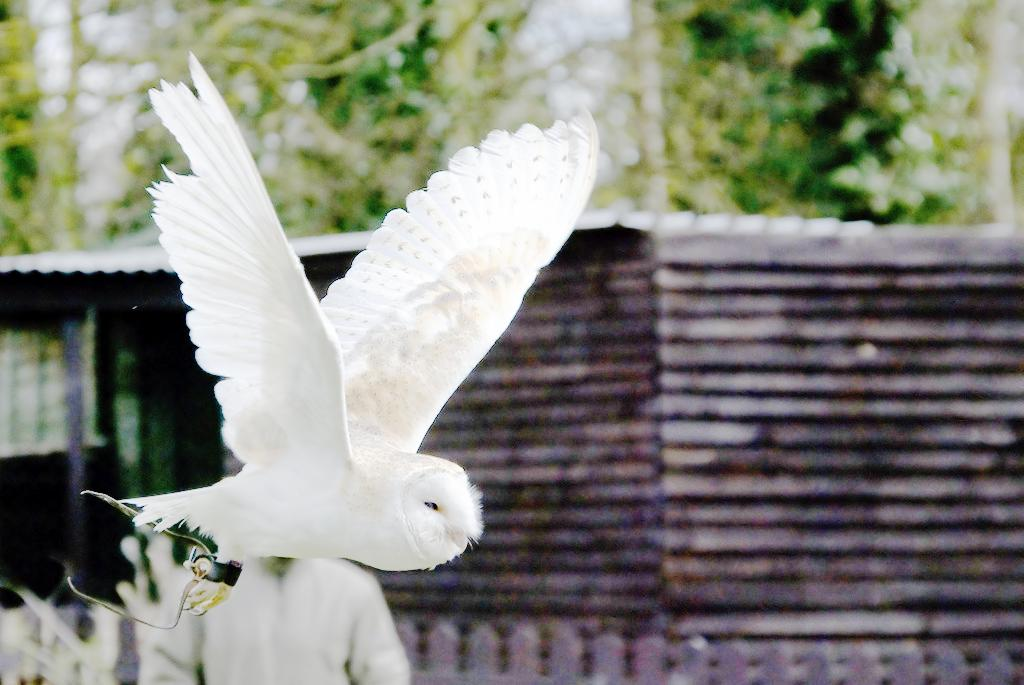Owl: (107, 46, 601, 626)
